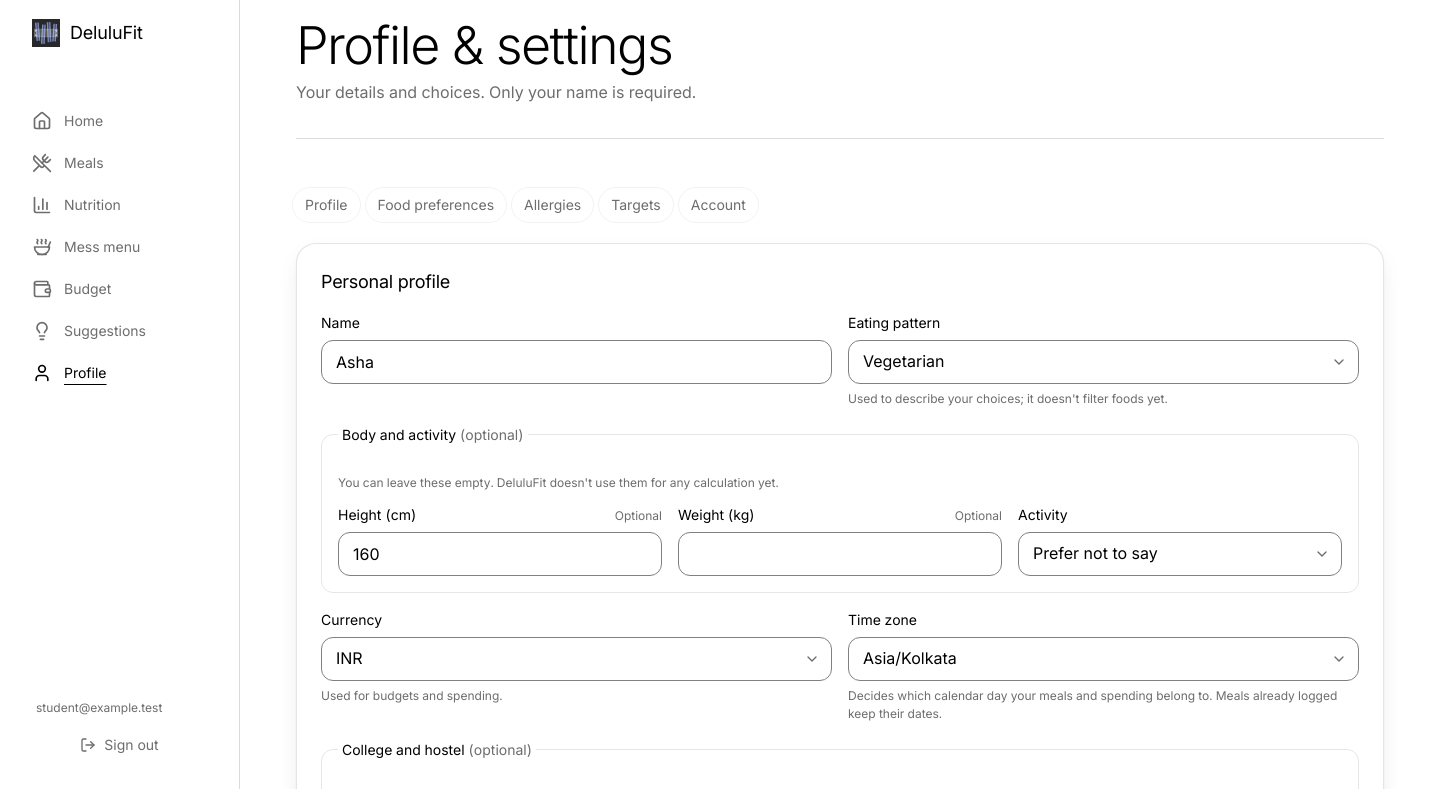
Test: personal profile › saves every field (PUT replaces the profile) and refreshes cached profile data
Replace the text in the field labelled "Name" with "Ravi" at point(576, 362), box [321,340,832,384]
(page scrolled)
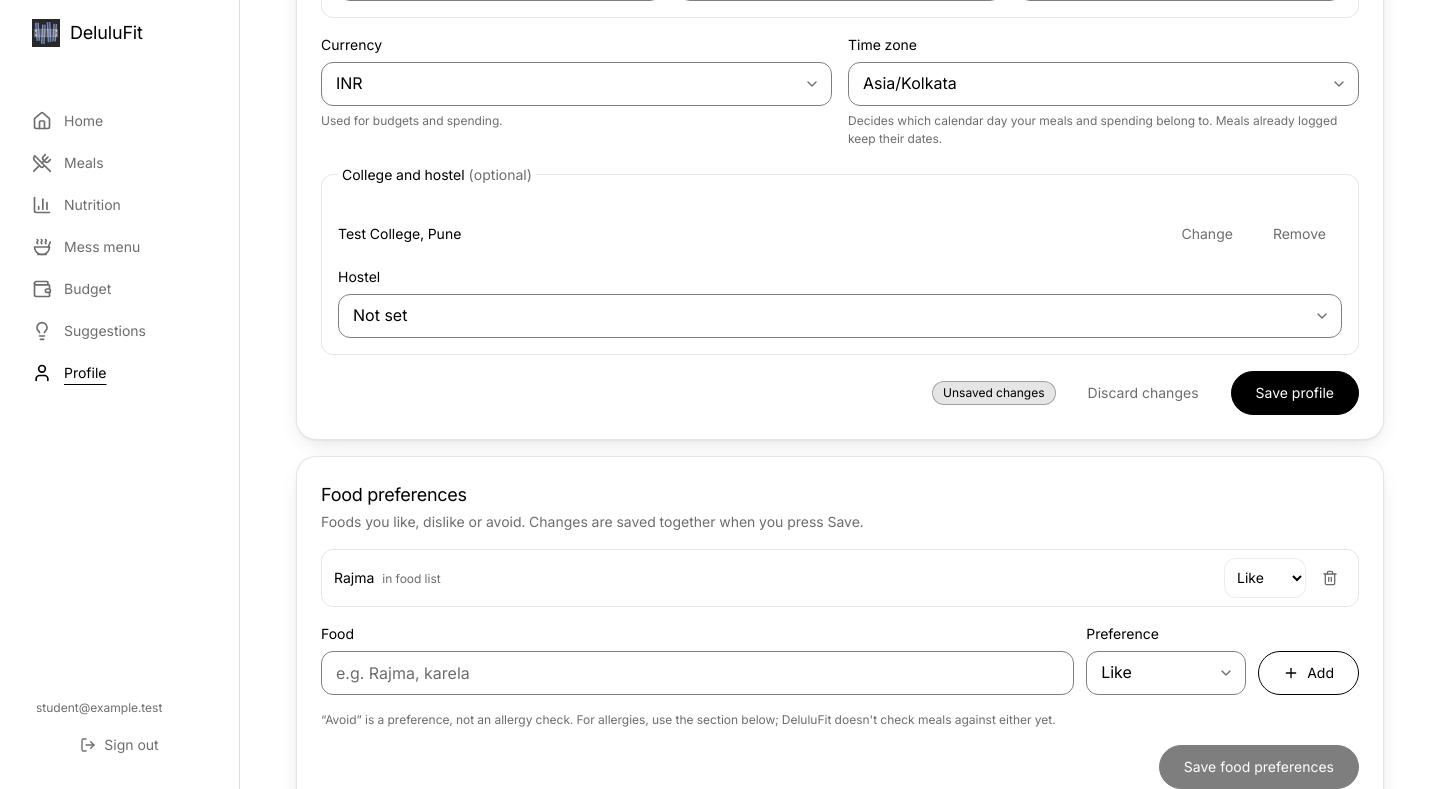
Expected: the text "Unsaved changes" is shown, [932,381,1056,405]
Click the button "Save profile" at point(1295, 393), box [1230,371,1359,415]
(page scrolled)
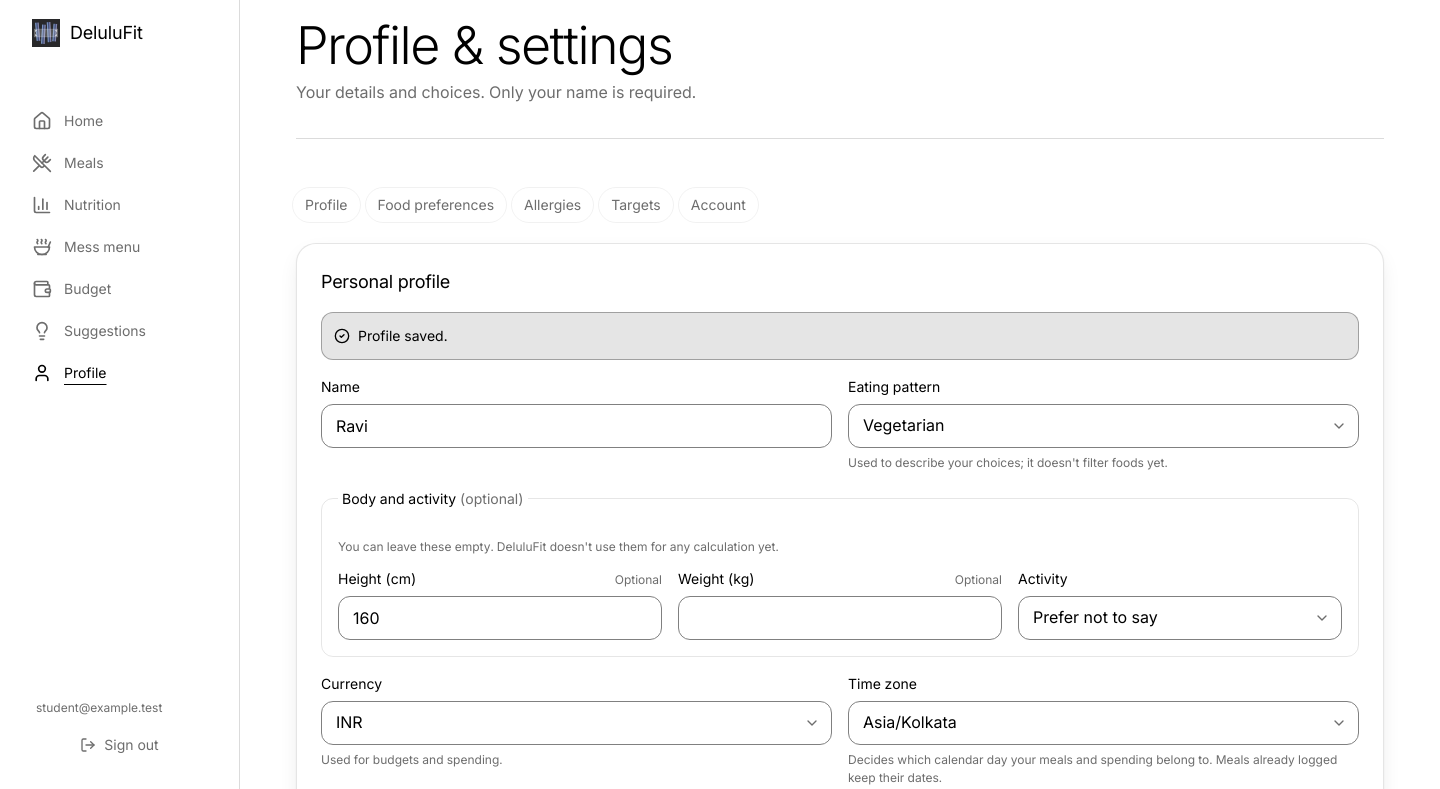
Expected: the text "Profile saved." is shown, [321,312,1359,360]
Expected: the text "Unsaved changes" is gone
